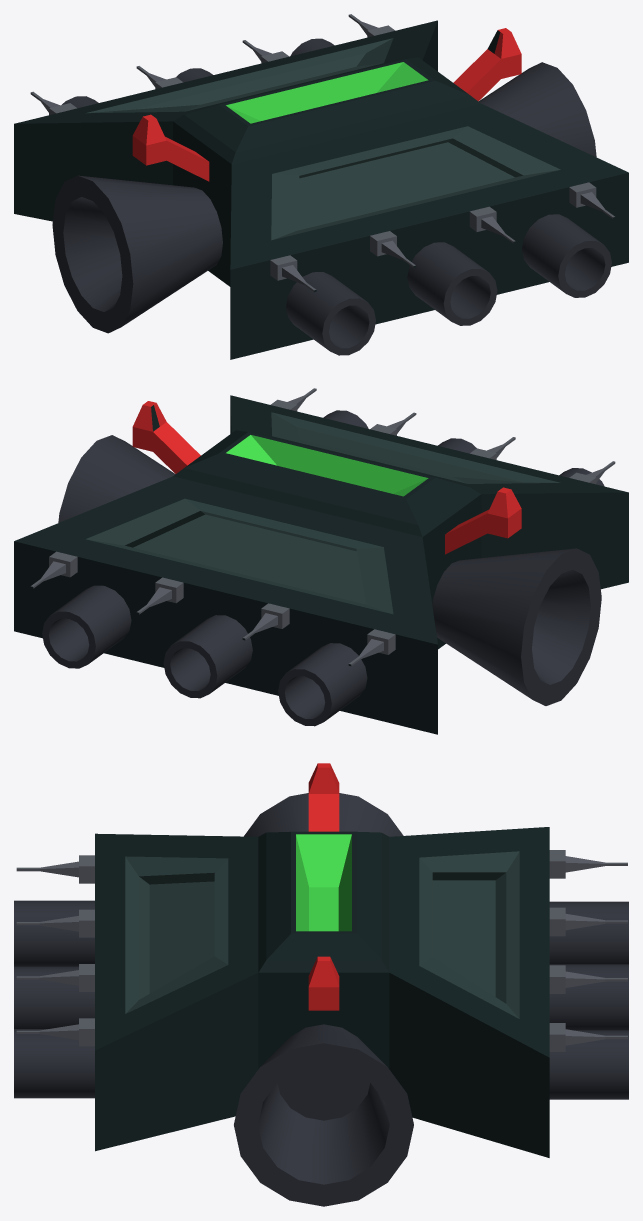
The model's file is Boss2.fbx.
The picture shows the model from 3 angles, top to bottom: view 1: azimuth 30°, elevation 25°; view 2: azimuth 150°, elevation 25°; view 3: azimuth 270°, elevation 25°; orthographic projection. The views are drawn at different scales.
Parts seen in each view (by area): view 1: Plane; view 2: Plane; view 3: Plane.
Boxes of the visible parts, x1=… form: Plane: x1=14, y1=14, x2=628, y2=359; Plane: x1=14, y1=388, x2=628, y2=734; Plane: x1=14, y1=763, x2=628, y2=1206.
Size of the model in its own units: 123 by 49.6 by 126.
Materials: 1 (1 with a texture image).
